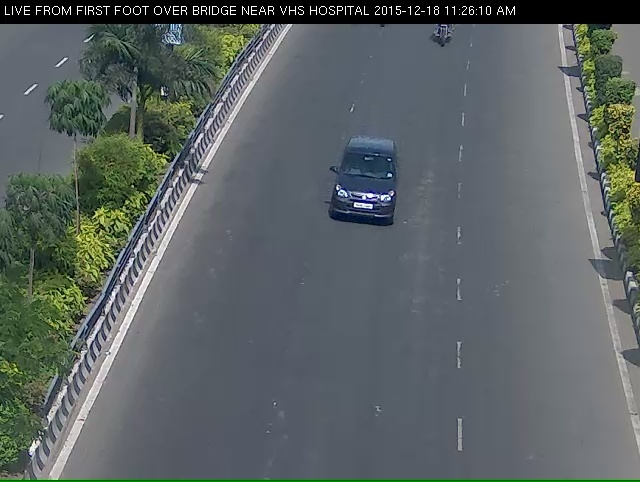Car: (317, 152, 404, 256)
Person: (427, 23, 464, 57)
